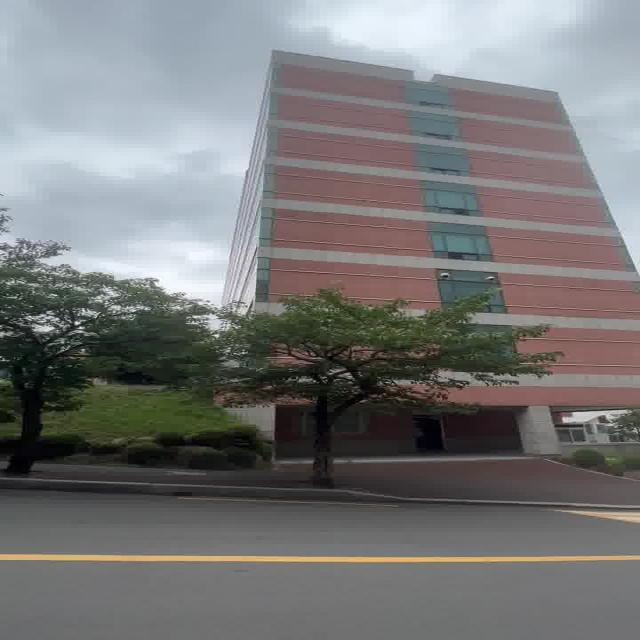building: (215, 51, 622, 307)
